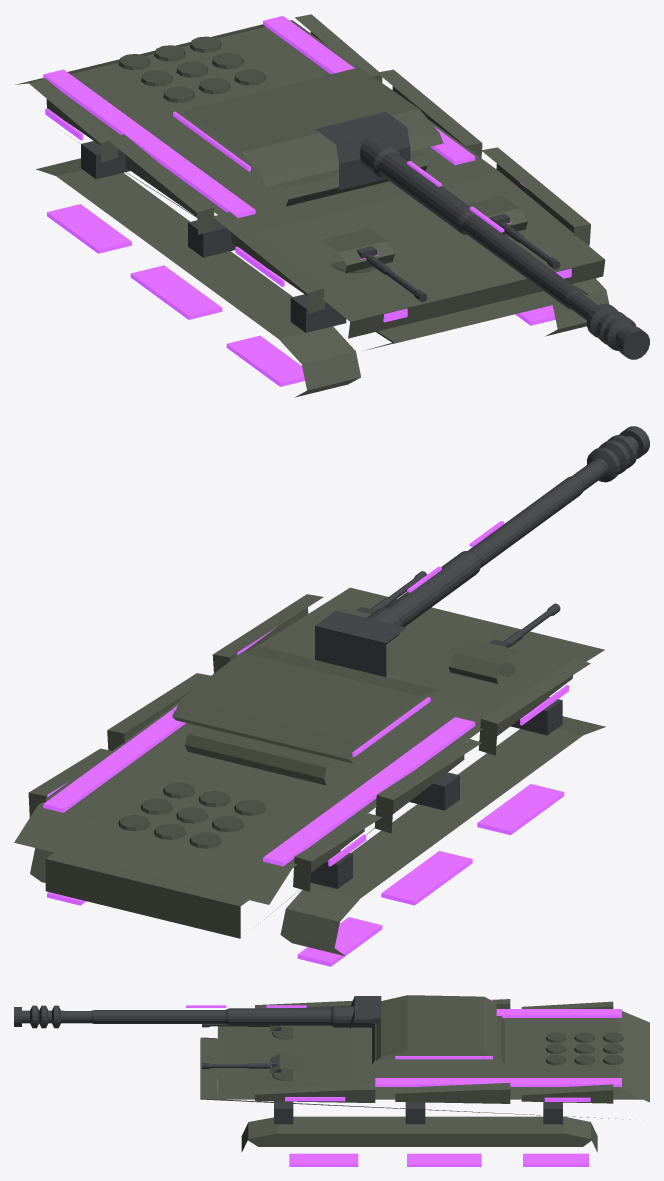
The model's file is mkcx2.glb.
3 renders of one model, top to bottom at view 1: azimuth 30°, elevation 25°; view 2: azimuth 150°, elevation 25°; view 3: azimuth 270°, elevation 25°, orthographic. The views are drawn at different scales.
Visible parts, largest first — view 1: Hull_Mesh, Turret_Mesh, Nacelle_L, Barrel_Mesh, Deck_Glow_2, Mantlet_Mesh, Hull_Applique_L2, Hull_Applique_L1, Deck_Glow_1, Hull_Applique_R1, LiftEmitter_L2, MuzzleBrake_Mesh (+14 smaller); view 2: Hull_Mesh, Turret_Mesh, Nacelle_L, Barrel_Mesh, Deck_Glow_2, Turret_Pedestal, Mantlet_Mesh, Deck_Glow_1, Hull_Applique_L2, Hull_Applique_L1, LiftEmitter_L2, LiftEmitter_L3 (+10 smaller); view 3: Hull_Mesh, Nacelle_R, Turret_Mesh, Barrel_Mesh, Hull_Applique_R2, Deck_Glow_1, Hull_Applique_R1, Hull_Applique_R3, Turret_Pedestal, Deck_Glow_2, LiftEmitter_R2, LiftEmitter_R3 (+12 smaller).
Boxes of the visible parts, x1,y1,x2,y2 form: Hull_Mesh: [15, 20, 605, 350]; Turret_Mesh: [182, 67, 443, 186]; Nacelle_L: [36, 158, 360, 397]; Barrel_Mesh: [359, 136, 597, 320]; Deck_Glow_2: [43, 69, 255, 217]; Mantlet_Mesh: [315, 112, 410, 190]; Hull_Applique_L2: [107, 134, 215, 234]; Hull_Applique_L1: [213, 211, 325, 313]; Deck_Glow_1: [263, 16, 475, 165]; Hull_Applique_R1: [481, 147, 590, 245]; LiftEmitter_L2: [130, 265, 222, 319]; MuzzleBrake_Mesh: [587, 303, 649, 359]; Hull_Mesh: [14, 587, 604, 938]; Turret_Mesh: [172, 647, 439, 763]; Nacelle_L: [280, 716, 605, 956]; Barrel_Mesh: [367, 460, 605, 643]; Deck_Glow_2: [263, 717, 475, 866]; Turret_Pedestal: [185, 695, 424, 785]; Mantlet_Mesh: [315, 610, 406, 676]; Deck_Glow_1: [43, 709, 185, 812]; Hull_Applique_L2: [374, 737, 481, 833]; Hull_Applique_L1: [478, 658, 590, 755]; LiftEmitter_L2: [381, 851, 472, 905]; LiftEmitter_L3: [477, 784, 564, 835]; Hull_Mesh: [200, 1011, 649, 1119]; Nacelle_R: [241, 1116, 597, 1152]; Turret_Mesh: [376, 995, 496, 1060]; Barrel_Mesh: [64, 1006, 372, 1027]; Hull_Applique_R2: [395, 1083, 510, 1103]; Deck_Glow_1: [375, 1078, 621, 1086]; Hull_Applique_R1: [255, 1083, 375, 1102]; Hull_Applique_R3: [521, 1084, 613, 1103]; Turret_Pedestal: [372, 1016, 504, 1064]; Deck_Glow_2: [496, 1009, 621, 1017]; LiftEmitter_R2: [407, 1153, 481, 1166]; LiftEmitter_R3: [289, 1153, 358, 1166].
Size of the model in its own units: 3.94 by 2.24 by 11.09.
